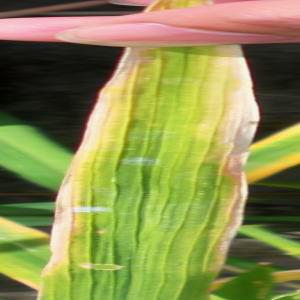2 BacterialBlight: (73, 47, 258, 300)
